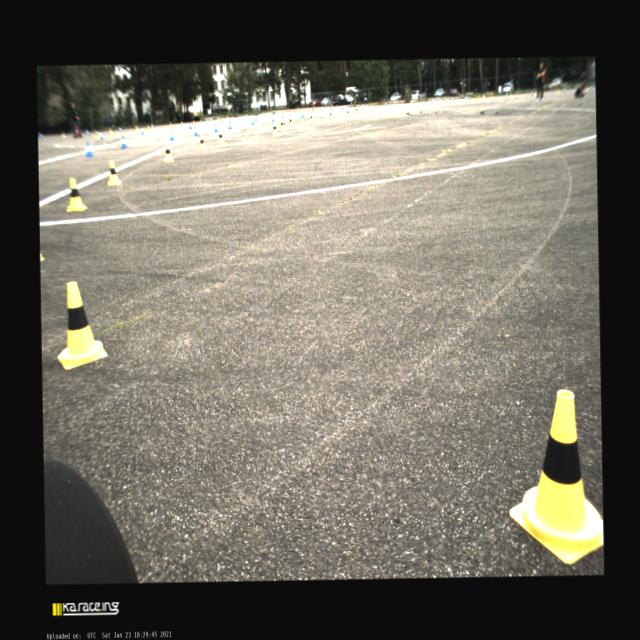blue_cone: (85, 142, 93, 156), (120, 135, 128, 148), (168, 129, 174, 140), (193, 125, 198, 135), (213, 123, 218, 132), (228, 120, 232, 129), (250, 115, 254, 124), (300, 109, 304, 117), (271, 115, 275, 122), (288, 112, 292, 119), (140, 128, 144, 134), (188, 122, 192, 128), (282, 110, 284, 118), (438, 98, 441, 103), (254, 113, 256, 120), (339, 105, 342, 109), (430, 98, 432, 103), (446, 97, 448, 102), (205, 118, 207, 122), (180, 121, 182, 125), (384, 102, 386, 106), (450, 97, 452, 101), (341, 105, 342, 109), (342, 105, 343, 109), (362, 104, 363, 108), (344, 105, 344, 108)
yellow_cone: (507, 388, 604, 564), (56, 281, 108, 368), (64, 178, 88, 210), (107, 160, 121, 184), (163, 142, 173, 160), (198, 134, 206, 150), (217, 130, 225, 144), (271, 122, 278, 134), (280, 118, 284, 128), (288, 117, 292, 125), (328, 111, 332, 118), (192, 120, 195, 126), (346, 110, 349, 115), (444, 98, 446, 105), (354, 105, 356, 112), (374, 101, 376, 108), (310, 114, 312, 120), (356, 108, 358, 114), (169, 120, 171, 126), (263, 114, 265, 120), (221, 117, 223, 122), (320, 107, 322, 112), (307, 108, 309, 112), (331, 107, 333, 111), (246, 112, 248, 116), (199, 119, 201, 122), (297, 109, 298, 112), (345, 105, 346, 108), (310, 108, 310, 112)
